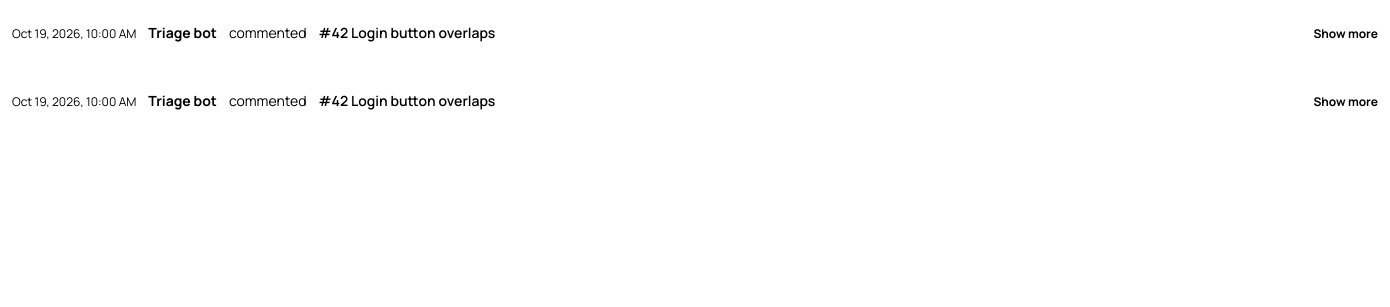
Test: AuditLog (#447) › reveals the payload for that row only
Click the 1st button "Show more": (1346, 34) [1313,14,1378,54]
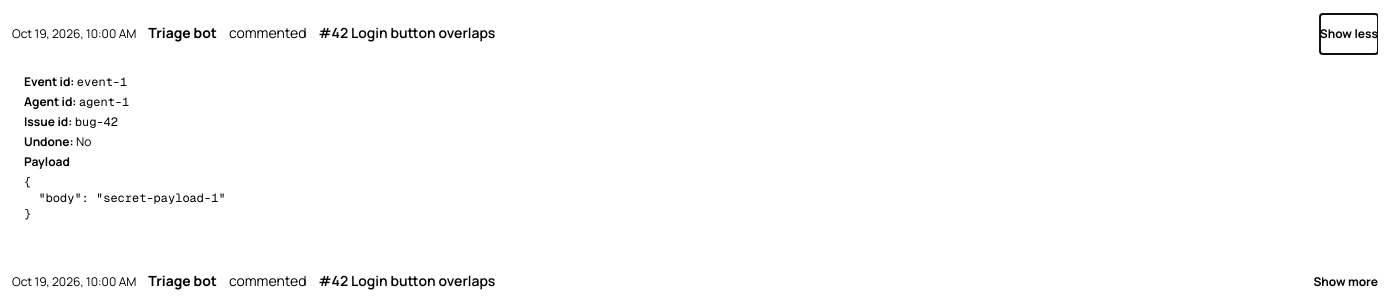
Result: the text "{ \"body\": \"secret-payload-1\" }" is shown at [24,174,226,222]
Result: the button "Show less" is expanded at [1320,14,1378,54]
